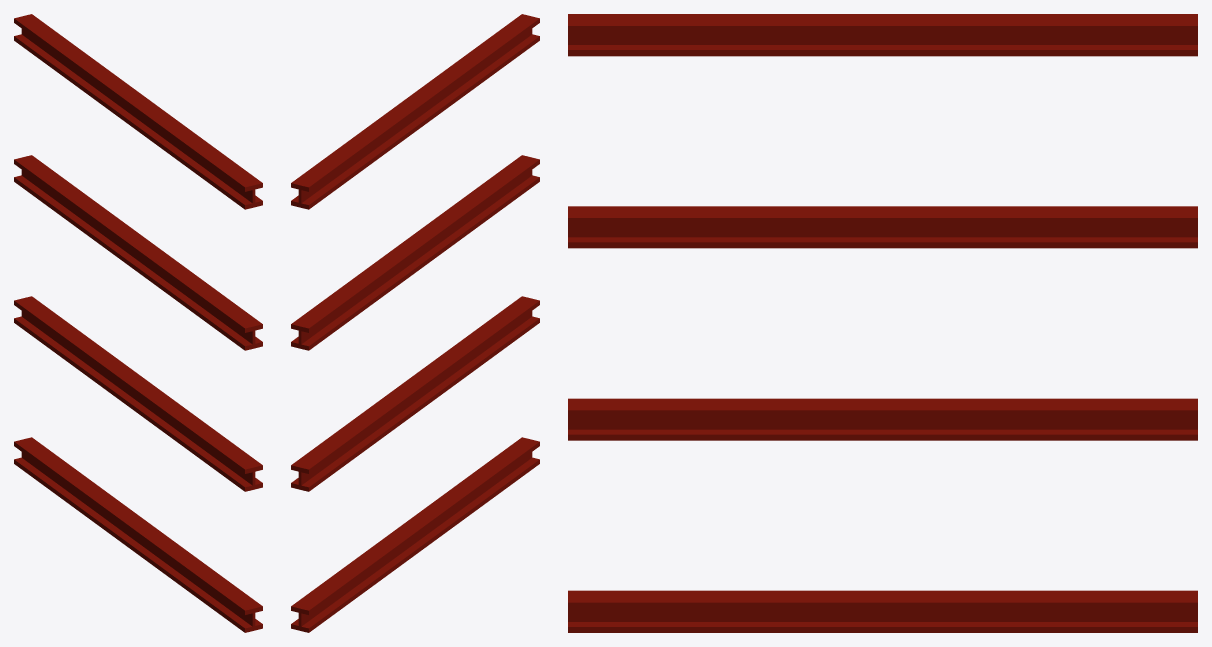
File: I-beam_005.gltf
The picture shows the model from 3 angles, left to right: view 1: azimuth 30°, elevation 25°; view 2: azimuth 150°, elevation 25°; view 3: azimuth 270°, elevation 25°; orthographic projection. The views are drawn at different scales.
Parts seen in each view (by area): view 1: I-beam.005; view 2: I-beam.005; view 3: I-beam.005.
Part boxes in pixels (x1,y1,x2,y2): I-beam.005: [14, 14, 262, 632]; I-beam.005: [291, 14, 539, 632]; I-beam.005: [568, 14, 1197, 632].
Bounding box in the file's own units: 0.4124 × 9.82 × 9.24.
